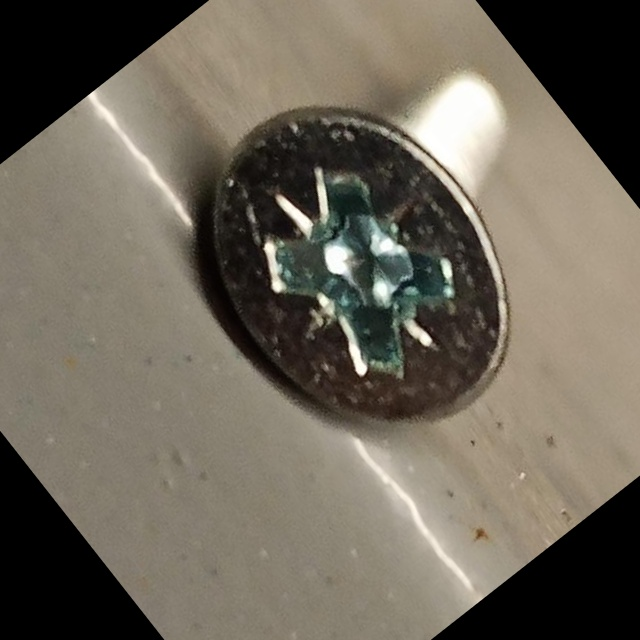pozidriv: (147, 49, 573, 491)
